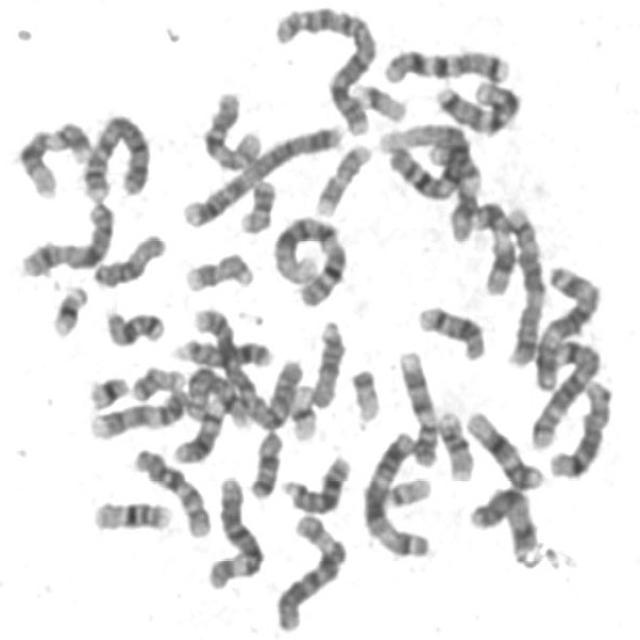A1: (267, 206, 352, 308), (376, 115, 472, 202)
A2: (190, 299, 305, 433), (269, 0, 377, 137)
A3: (528, 256, 606, 393), (357, 423, 435, 560)
B4: (176, 114, 346, 230), (78, 106, 154, 202)
B5: (526, 332, 606, 452), (502, 200, 548, 368)
C10: (128, 441, 214, 540), (197, 82, 267, 173)
C11: (424, 136, 485, 245), (468, 194, 519, 298)
C12: (462, 402, 548, 492), (12, 112, 96, 200)
C6: (270, 507, 352, 633), (202, 469, 267, 590)
C7: (430, 72, 524, 136), (379, 40, 514, 84)
C8: (544, 372, 617, 481), (180, 358, 253, 429)
C9: (86, 382, 191, 442), (393, 342, 442, 468)
D13: (276, 447, 354, 516), (170, 330, 277, 370)
D14: (413, 297, 490, 363), (168, 393, 229, 465)
D15: (87, 225, 170, 290), (305, 313, 349, 410)
E16: (88, 492, 176, 533), (433, 403, 478, 482)
E17: (310, 134, 376, 218), (180, 244, 257, 294)
E18: (243, 423, 286, 500), (100, 300, 168, 348)
F19: (349, 75, 409, 124), (285, 376, 322, 443)
F20: (127, 358, 188, 404), (235, 172, 280, 234)
G21: (46, 276, 91, 340), (83, 366, 133, 412)
G22: (345, 359, 385, 424), (379, 469, 435, 510)
X: (15, 194, 119, 278), (464, 479, 543, 563)
